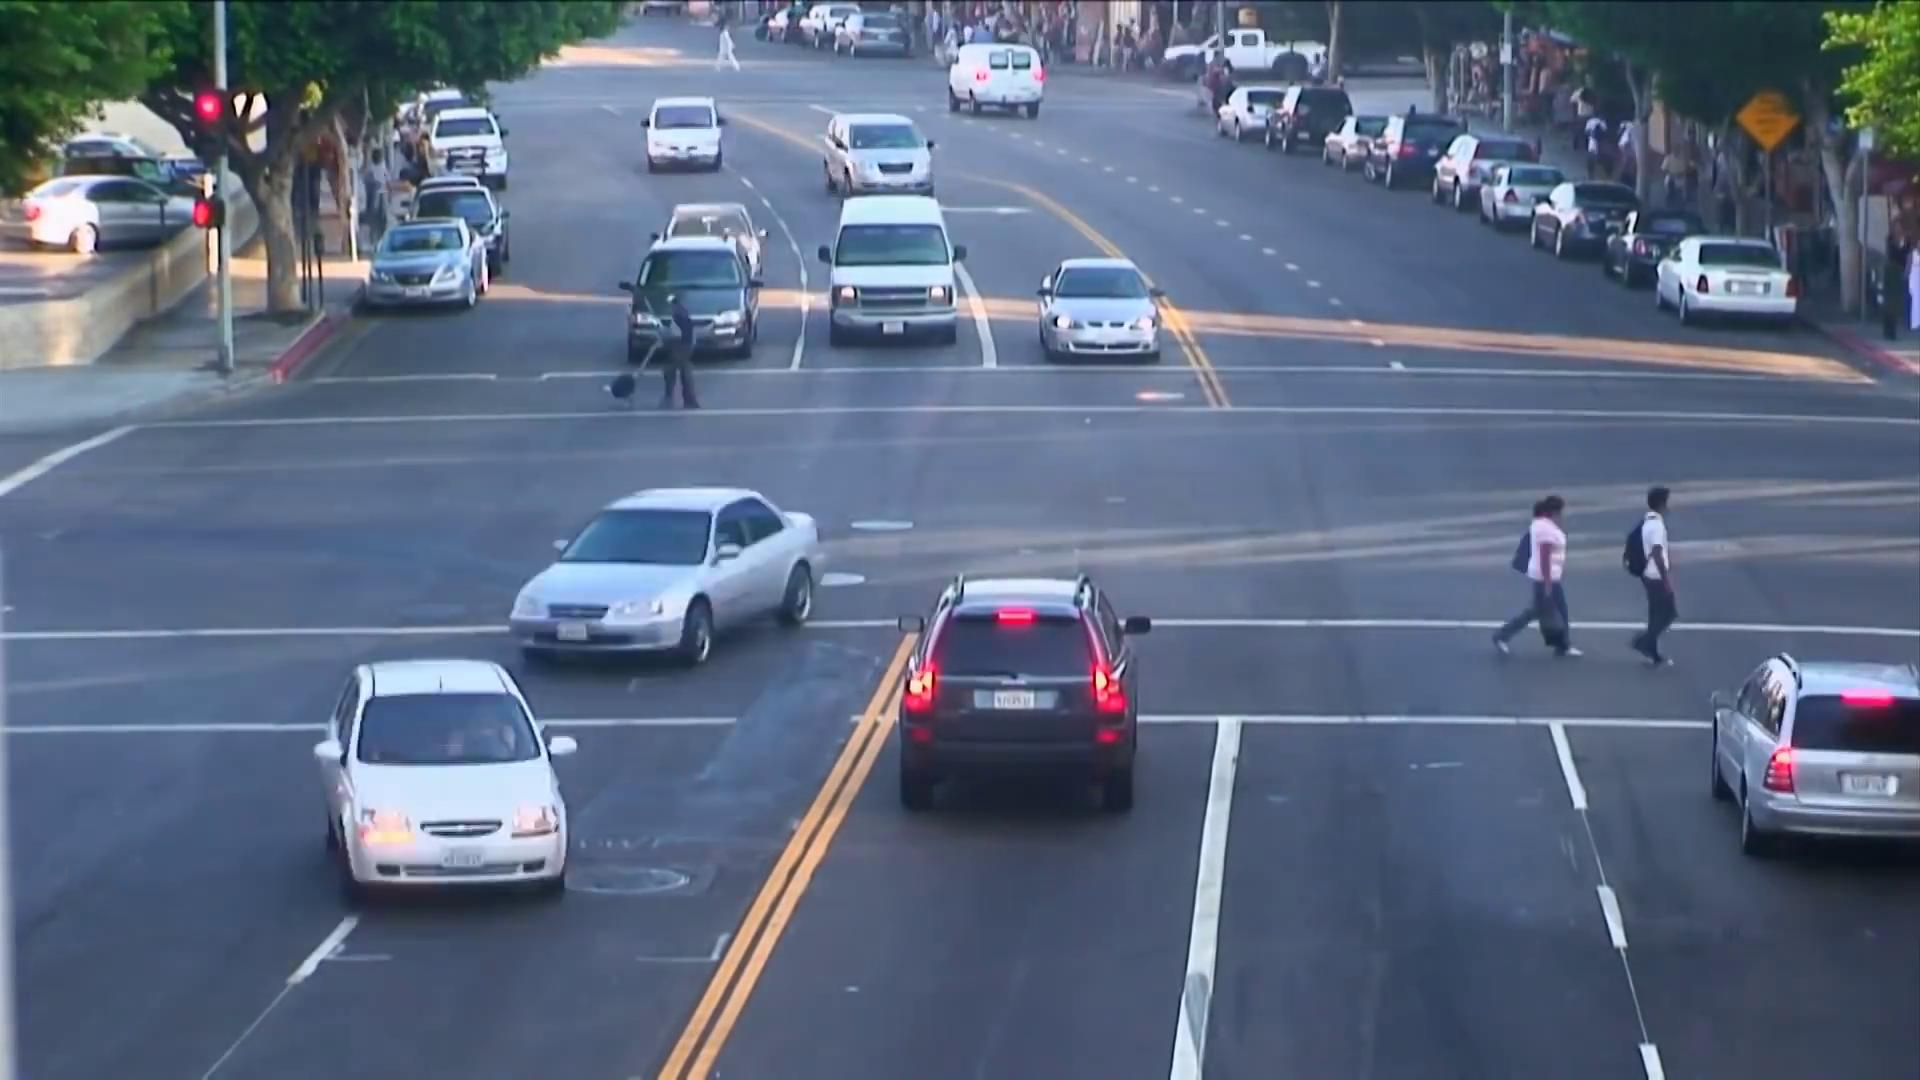car: (307, 653, 596, 890), (897, 574, 1156, 794), (506, 484, 816, 663), (1697, 653, 1920, 857), (820, 208, 975, 345), (625, 244, 766, 357), (1039, 255, 1166, 360), (15, 177, 187, 253), (1655, 236, 1803, 324), (356, 219, 493, 311), (820, 112, 943, 196), (1528, 182, 1640, 252), (1432, 132, 1538, 204), (951, 42, 1047, 120), (1369, 113, 1466, 187), (1605, 206, 1698, 281), (426, 111, 513, 179), (646, 98, 727, 170), (1477, 165, 1563, 220), (1324, 115, 1394, 169)
